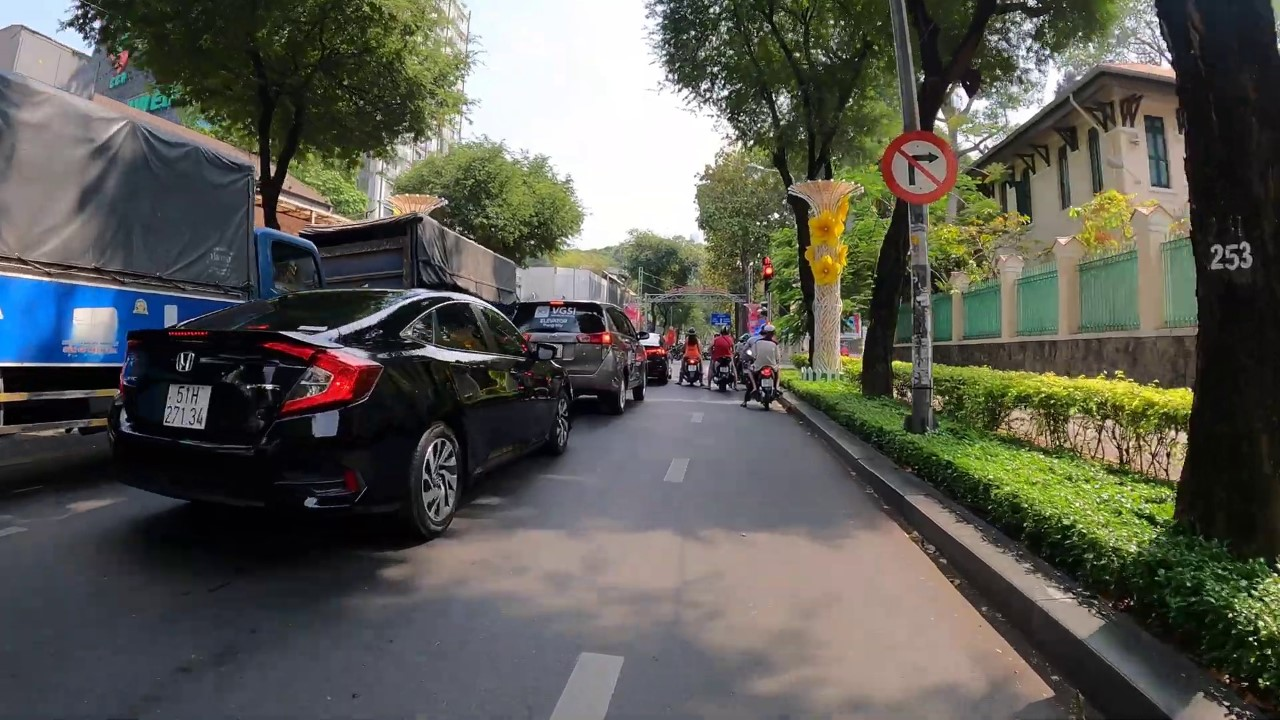cam_re_phai: (880, 129, 956, 206)
